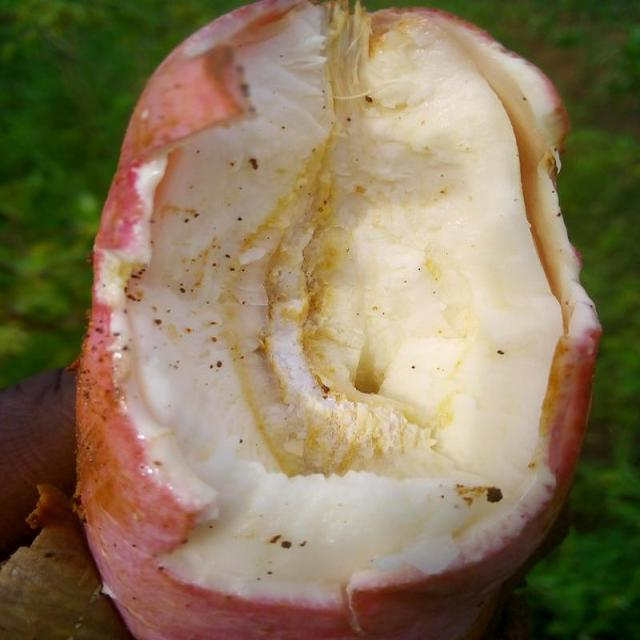cassava leaf: (70, 0, 602, 638)
